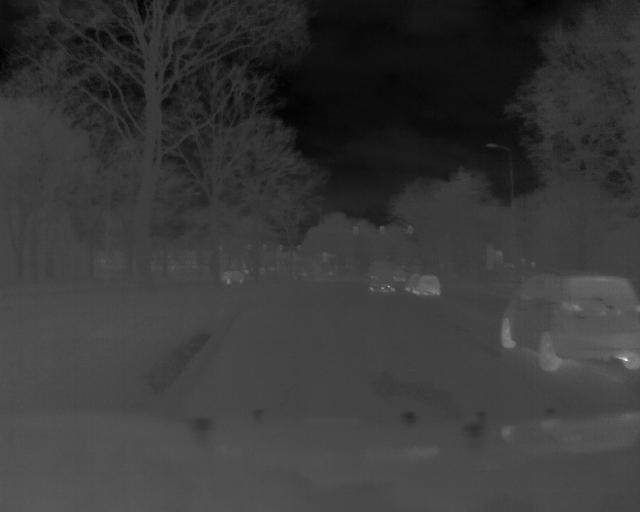car: (498, 266, 640, 375), (409, 275, 442, 300)
